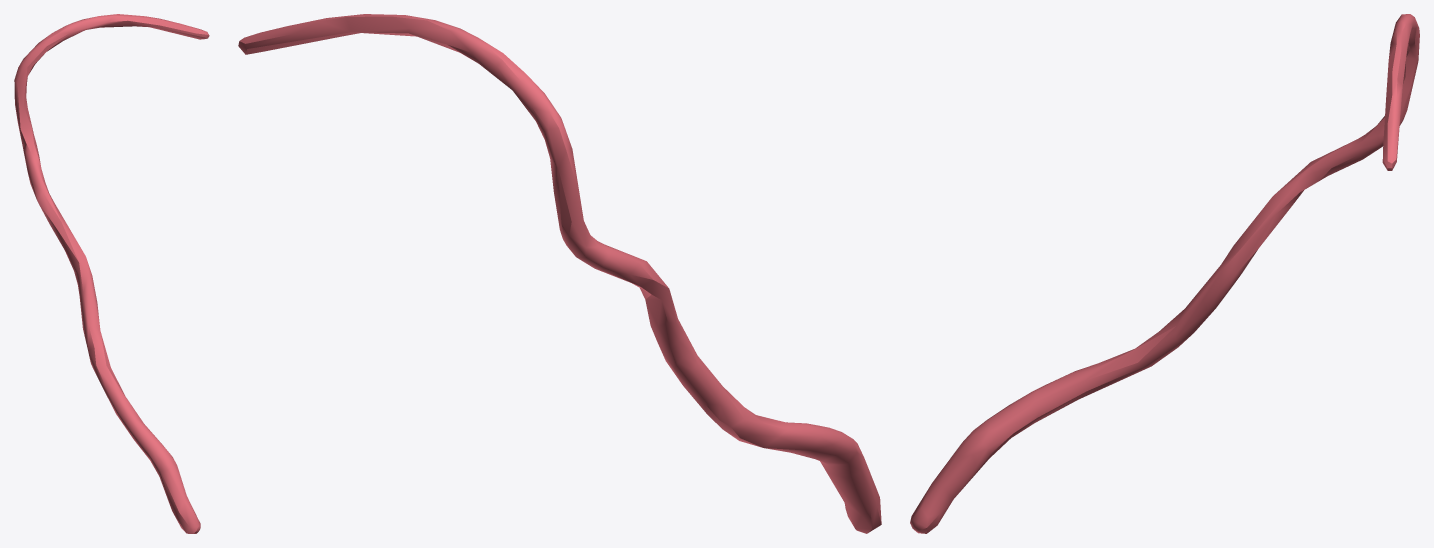
The model's file is fma50354_fj1722m.glb.
3 renders of one model, left to right at view 1: azimuth 30°, elevation 25°; view 2: azimuth 150°, elevation 25°; view 3: azimuth 270°, elevation 25°, orthographic. The views are drawn at different scales.
Parts seen in each view (by area): view 1: FMA50354_FJ1722M; view 2: FMA50354_FJ1722M; view 3: FMA50354_FJ1722M.
Boxes of the visible parts, bbox=[...] form: FMA50354_FJ1722M: bbox=[14, 14, 209, 533]; FMA50354_FJ1722M: bbox=[238, 14, 881, 533]; FMA50354_FJ1722M: bbox=[910, 14, 1419, 533].
Bounding box in the file's own units: 0.0221 × 0.0396 × 0.0332.
